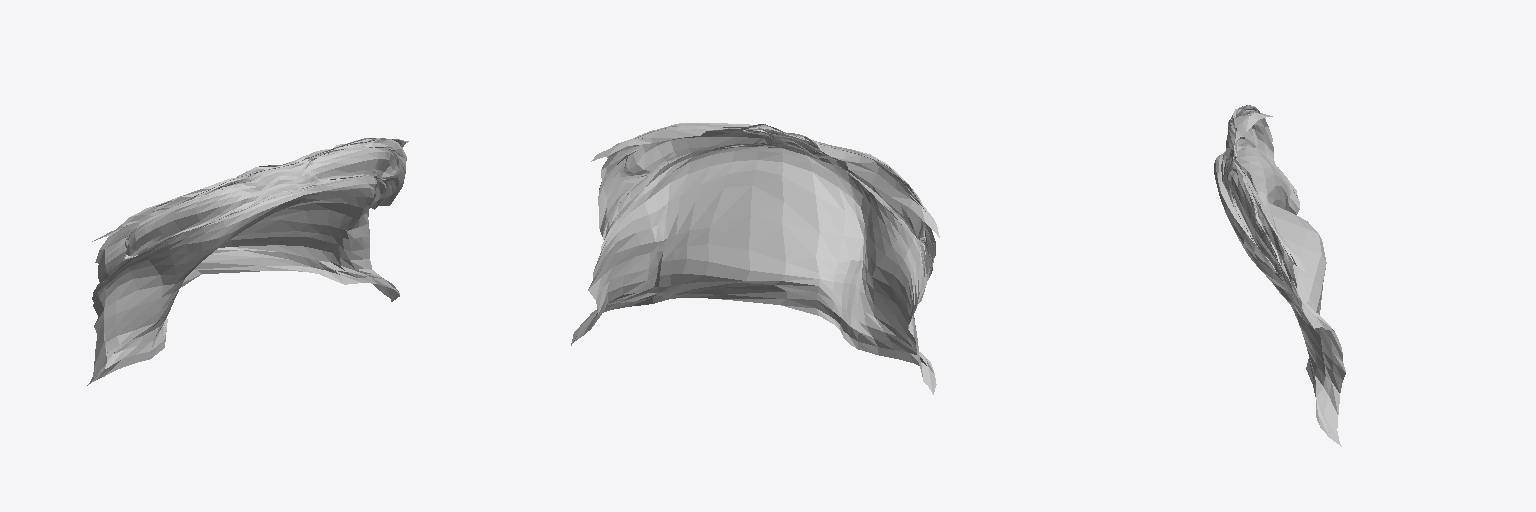
The model's file is deformed_alpha_2_ModelRot.obj.
3 renders of one model, left to right at view 1: azimuth 30°, elevation 25°; view 2: azimuth 150°, elevation 25°; view 3: azimuth 270°, elevation 25°, orthographic.
Size of the model in its own units: 0.6068 by 0.3761 by 0.2062.